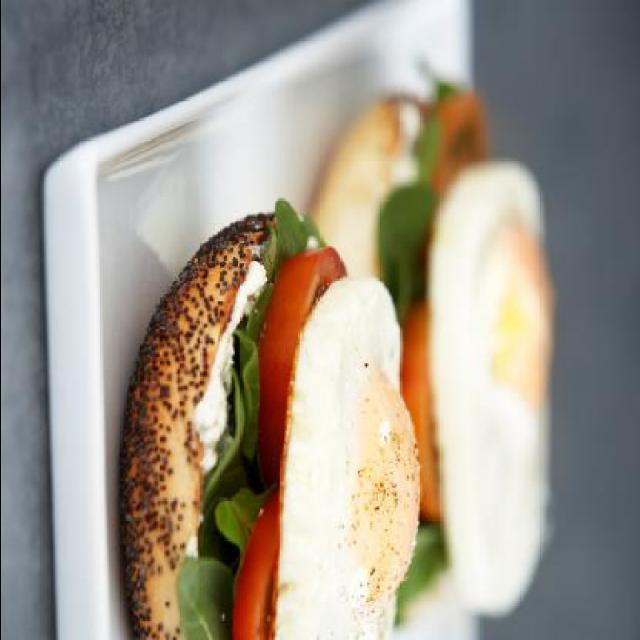Sandwich: (306, 56, 554, 638), (116, 198, 424, 640)
